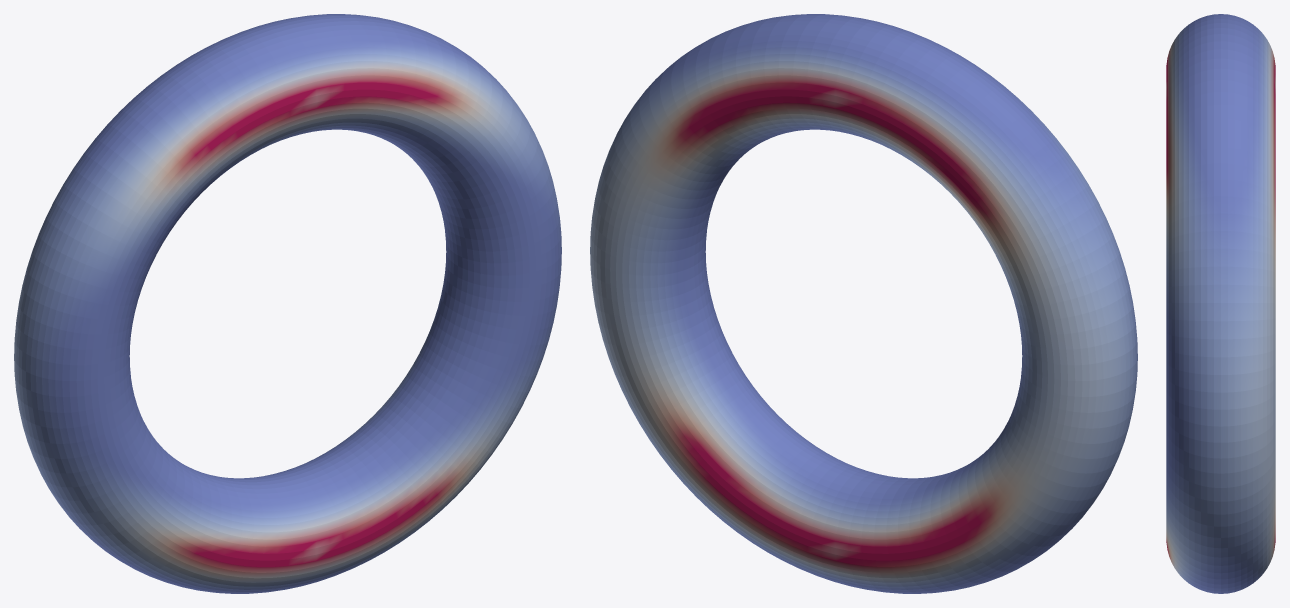
3 renders of one model, left to right at view 1: azimuth 30°, elevation 25°; view 2: azimuth 150°, elevation 25°; view 3: azimuth 270°, elevation 25°, orthographic. The views are drawn at different scales.
Parts seen in each view (by area): view 1: world; view 2: world; view 3: world.
Boxes of the visible parts, x1=… form: world: x1=14, y1=14, x2=561, y2=593; world: x1=590, y1=14, x2=1137, y2=593; world: x1=1166, y1=14, x2=1275, y2=593.
Bounding box in the file's own units: 20.53 × 20.53 × 3.86.
